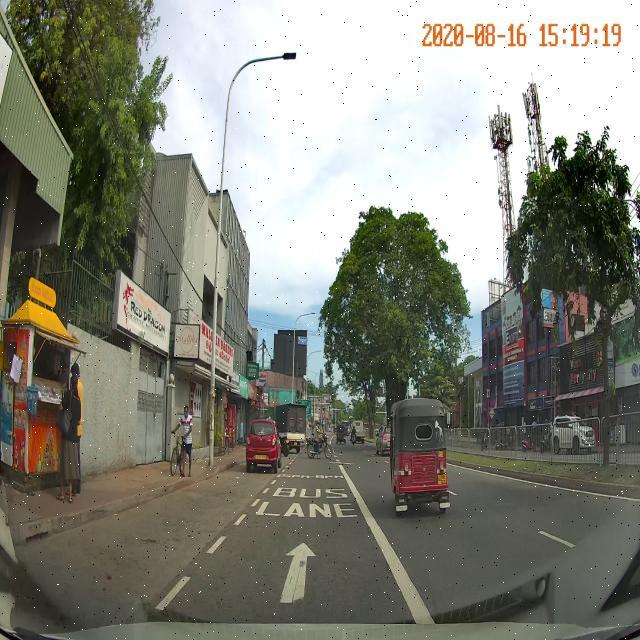forward: (148, 527, 438, 614)
